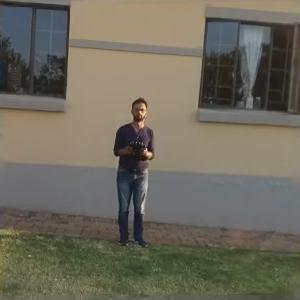follow: (106, 93, 157, 252)
